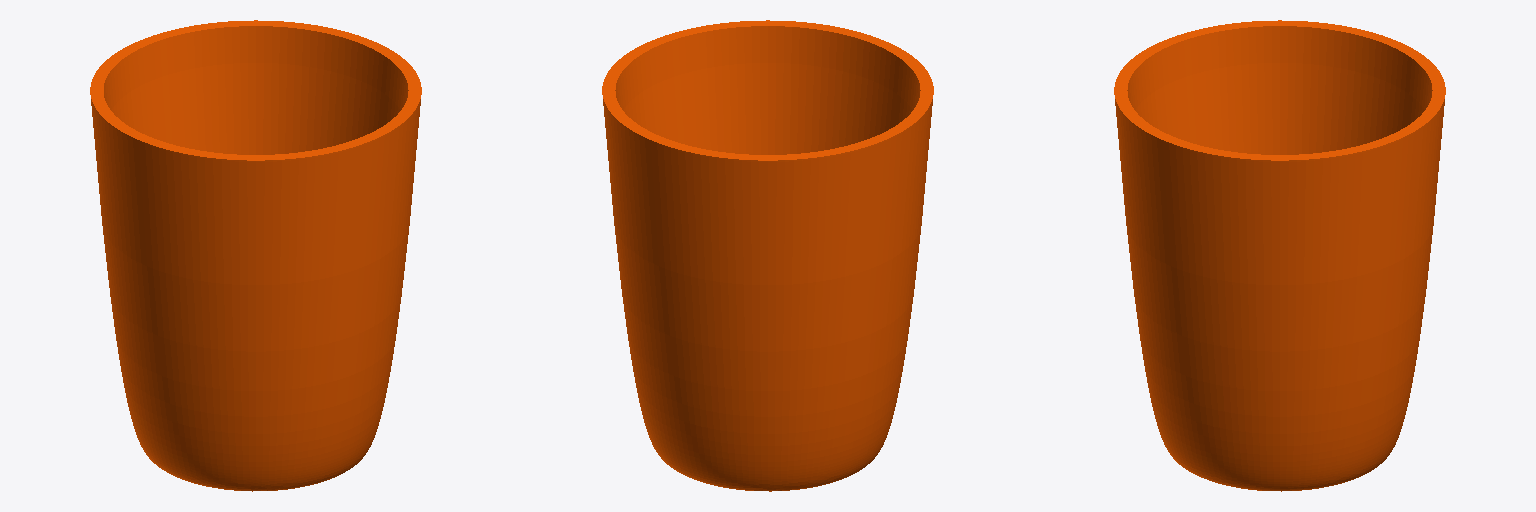
URDF robot description (cup):
<?xml version="1.0" ?>
<robot name="cup">
   <material name="obj_color">
      <color rgba="1.0 0.423529411765 0.0392156862745 1.0"/>
   </material>
   <link name="top">
      <inertial>
         <origin rpy="0.0002318922678363475 0.0002873262438371644 0.0002873263107093783" xyz="1.149016468872773e-08 5.503265611857441e-09 -0.003940046594504782"/>
         <mass value="0.1938306036330942"/>
         <inertia ixx="0.0002873262596174794" ixy="2.839449806732501e-11" ixz="4.813286940802624e-11" iyy="0.0002873262949290212" iyz="4.382377971037552e-12" izz="0.0002318922678363897"/>
      </inertial>
      <visual>
         <origin rpy="0 0 0" xyz="0 0 0"/>
         <geometry>
            <mesh filename="top_watertight_tiny.stl" scale="1 1 1"/>
         </geometry>
         <material name="obj_color"/>
      </visual>
      <collision>
         <origin rpy="0 0 0" xyz="0 0 0"/>
         <geometry>
            <mesh filename="top_watertight_tiny.obj" scale="1 1 1"/>
         </geometry>
      </collision>
   </link>
   <link name="bottom">
      <inertial>
         <origin rpy="1.633333333194242e-08 1.633333333194243e-08 1.633333333357667e-08" xyz="0.3464080000000008 0.3464080000000008 0.3464080000000008"/>
         <mass value="0.0009800000000000017"/>
         <inertia ixx="1.633333333248717e-08" ixy="5.447480642029219e-19" ixz="5.447480642029219e-19" iyy="1.633333333248717e-08" iyz="5.447480642029219e-19" izz="1.633333333248717e-08"/>
      </inertial>
      <visual>
         <origin rpy="0 0 0" xyz="0 0 0"/>
         <geometry>
            <mesh filename="bottom_watertight_tiny.stl" scale="1 1 1"/>
         </geometry>
         <material name="obj_color"/>
      </visual>
   </link>
   <link name="world"/>
   <joint name="world_to_base" type="fixed">
      <origin xyz="0 0 0"/>
      <axis xyz="0 0 0"/>
      <parent link="world"/>
      <child link="bottom"/>
   </joint>
   <joint name="rotation" type="revolute">
      <origin xyz="0 0 0"/>
      <axis xyz="0 0 -1"/>
      <parent link="bottom"/>
      <child link="top"/>
      <dynamics damping="1.0" friction="1.0"/>
      <limit effort="0.1" velocity="0.1" lower="0" upper="0.001"/>
   </joint>
</robot>

--- Render facts (derived) ---
3 views of the same robot in one strip: view 1: azimuth 30°, elevation 25°; view 2: azimuth 150°, elevation 25°; view 3: azimuth 270°, elevation 25° (orthographic).
Robot: cup — 3 links, 2 joints (1 revolute, 1 fixed); root link world; default pose: every joint at zero.
Visible links, largest first — view 1: top; view 2: top; view 3: top.
Link boxes in pixels (left/top/right/bottom): top: left=90, top=20, right=421, bottom=491; top: left=602, top=20, right=933, bottom=491; top: left=1114, top=20, right=1445, bottom=491.
Bounding box of the posed robot: 0.0847 × 0.0847 × 0.1 m (x, y, z).
Meshes: 2 distinct files referenced, 1 mesh visuals loaded (1 binary STL); not drawn: 1 (reference not matched to a file when rendering).
